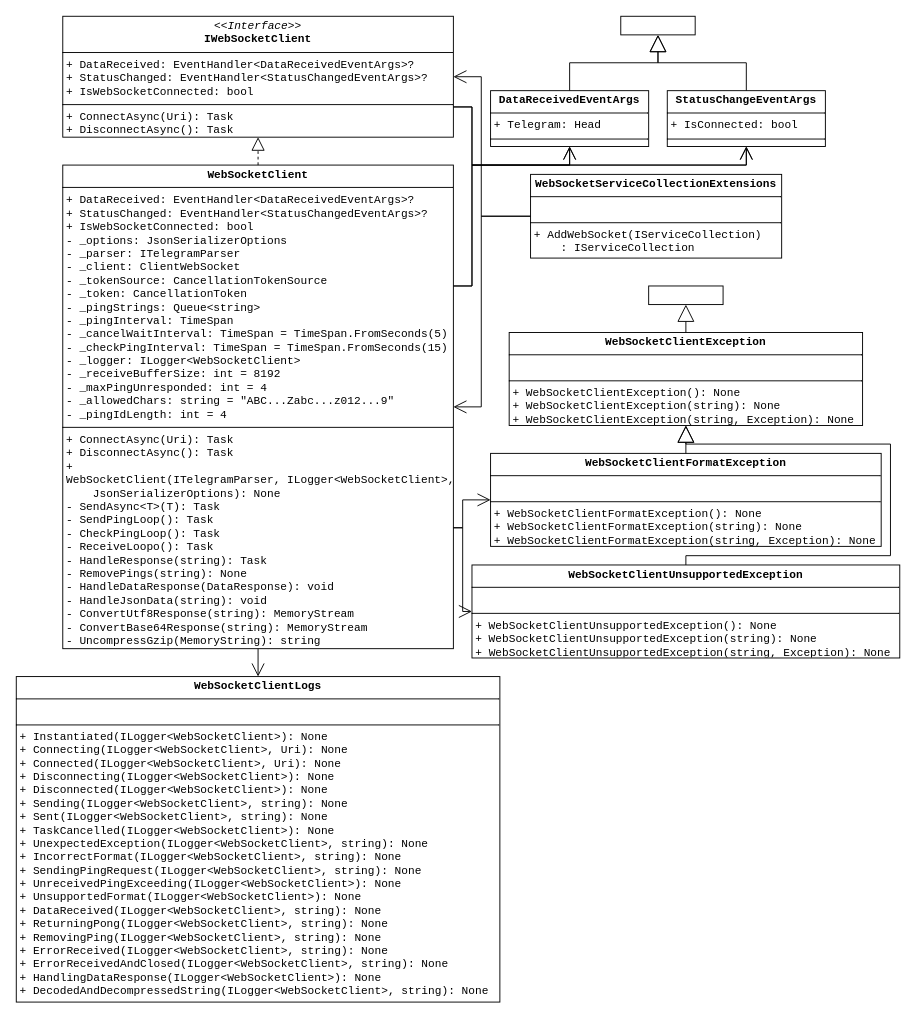
Image size: 923x1018. Some labels were removed from this diagram. The shapes that lost their labels are listed below. From the top down, each one's centre as x and y in pixels, then its label:
At point 657,25: "EventArgs".
At point 685,295: "Exception".
